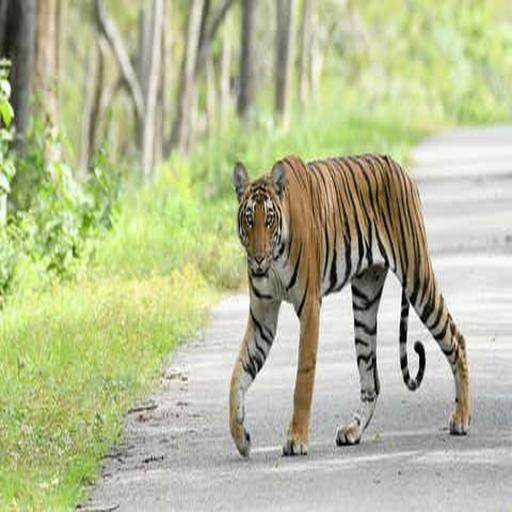Tiger: (218, 137, 478, 465)
